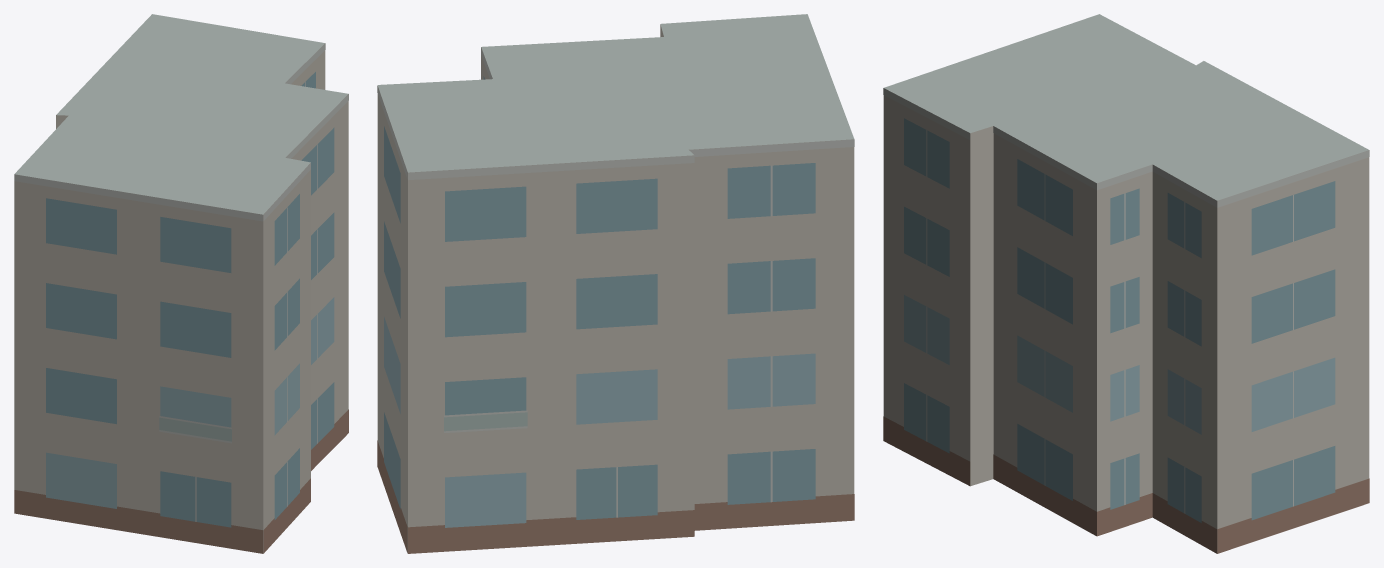
File: survey-upis-32941575.glb
The picture shows the model from 3 angles, left to right: view 1: azimuth 30°, elevation 25°; view 2: azimuth 150°, elevation 25°; view 3: azimuth 270°, elevation 25°; orthographic projection. The views are drawn at different scales.
Visible parts, largest first — view 1: survey-upis-32941575.tmp; view 2: survey-upis-32941575.tmp; view 3: survey-upis-32941575.tmp.
Boxes of the visible parts, left/top/right/bottom form: survey-upis-32941575.tmp: left=14, top=14, right=348, bottom=553; survey-upis-32941575.tmp: left=377, top=14, right=854, bottom=553; survey-upis-32941575.tmp: left=883, top=14, right=1369, bottom=553.
Size of the model in its own units: 13.79 by 12.15 by 15.16.
